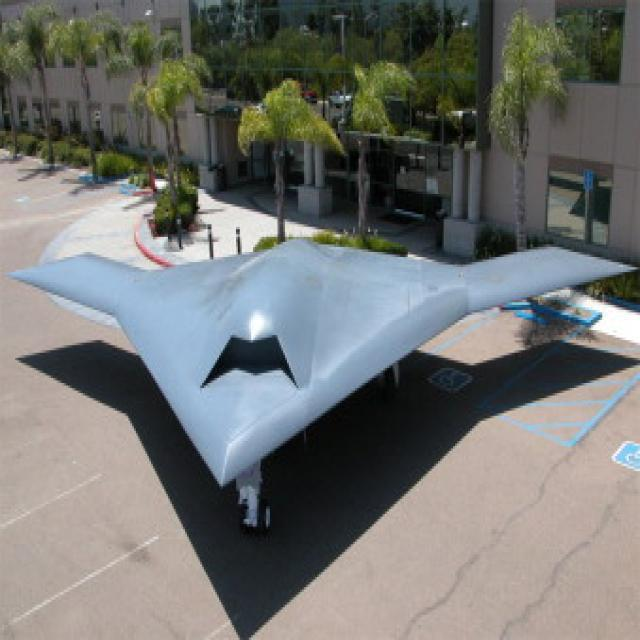iha: (7, 211, 640, 524)
